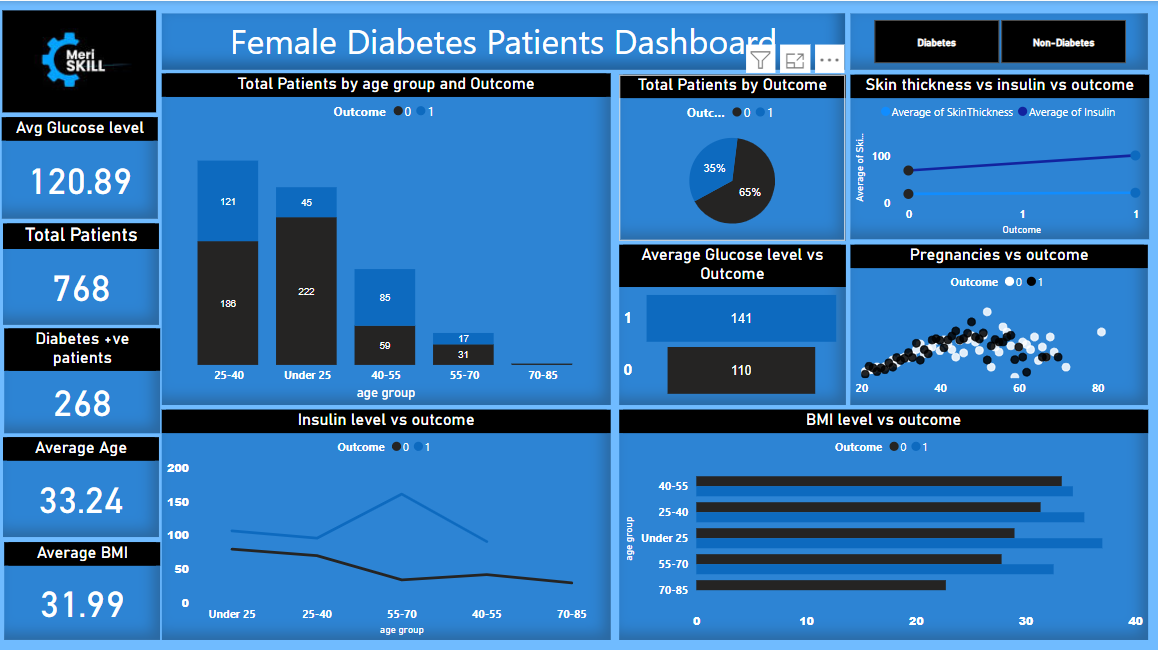

This screenshot's page, from the dashboard's own definition file:
{"tool":"powerbi","page":{"name":"Page 1","canvas":[1280,720],"ordinal":0},"visuals":[{"type":"card","title":"Total Patients","fields":{"Values":["CountNonNull(diabetes datasets.Outcome)"]},"box":[5.5,244.3,171.6,111.2],"z":0},{"type":"card","title":"Diabetes +ve patients","fields":{"Values":["Sum(diabetes datasets.Outcome)"]},"box":[6.9,359.6,171.6,115.3],"z":1000},{"type":"card","title":"Average Age","fields":{"Values":["Avg(diabetes datasets.Age)"]},"box":[6,479,171.6,109.8],"z":2000},{"type":"card","title":"Average BMI","fields":{"Values":["Avg(diabetes datasets.BMI)"]},"box":[6.9,594.3,171.6,107.1],"z":3000},{"type":"image","box":[0,5.5,178.4,122.2],"z":4000},{"type":"textbox","box":[179.8,13.7,750.8,61.8],"z":5000},{"type":"columnChart","fields":{"Category":["diabetes datasets.age group"],"Series":["diabetes datasets.Outcome"],"Y":["diabetes datasets.Total Patients"]},"box":[179.8,79.6,492.7,363.7],"z":6000},{"type":"pieChart","fields":{"Category":["diabetes datasets.Outcome"],"Y":["diabetes datasets.Total Patients"]},"box":[682.1,81,248.4,182.5],"z":7000},{"type":"clusteredBarChart","title":"BMI level vs outcome","fields":{"Category":["diabetes datasets.age group"],"Y":["Avg(diabetes datasets.BMI)"],"Series":["diabetes datasets.Outcome"]},"box":[682.1,448.8,580.6,252.5],"z":8000},{"type":"funnel","title":"Average Glucose level vs Outcome","fields":{"Category":["diabetes datasets.Outcome"],"Y":["Avg(diabetes datasets.Glucose)"]},"box":[682.1,267.6,248.4,175.7],"z":9000},{"type":"lineChart","title":"Insulin level vs outcome","fields":{"Category":["diabetes datasets.age group"],"Series":["diabetes datasets.Outcome"],"Y":["Avg(diabetes datasets.Insulin)"]},"box":[179.8,448.8,492.7,252.5],"z":10000},{"type":"scatterChart","title":"Pregnancies vs outcome","fields":{"Y":["Avg(diabetes datasets.Pregnancies)"],"Series":["diabetes datasets.Outcome"],"X":["diabetes datasets.Age"]},"box":[936.1,267.6,326.7,175.7],"z":11000},{"type":"card","title":"Avg Glucose level","fields":{"Values":["Avg(diabetes datasets.Glucose)"]},"box":[4,127,171.6,111.2],"z":12000},{"type":"lineChart","title":"Skin thickness vs insulin vs outcome","fields":{"Category":["diabetes datasets.Outcome"],"Y":["Avg(diabetes datasets.SkinThickness)","Avg(diabetes datasets.Insulin)"]},"box":[936.1,81,328,181.2],"z":13000},{"type":"slicer","fields":{"Values":["diabetes datasets.outcome1"]},"box":[936.1,13.7,326.7,61.8],"z":14000}]}

Visuals, with their boxes in screenshot pixels (x1, y1, x2, y2), scaled from the page's 1280x720 canvas onto the 1158x650 screenshot:
"Total Patients" card: {"left": 5, "top": 221, "right": 160, "bottom": 321}
"Diabetes +ve patients" card: {"left": 6, "top": 325, "right": 161, "bottom": 429}
"Average Age" card: {"left": 5, "top": 432, "right": 161, "bottom": 532}
"Average BMI" card: {"left": 6, "top": 537, "right": 161, "bottom": 633}
image: {"left": 0, "top": 5, "right": 161, "bottom": 115}
textbox: {"left": 163, "top": 12, "right": 842, "bottom": 68}
columnChart - diabetes datasets.age group x diabetes datasets.Outcome: {"left": 163, "top": 72, "right": 608, "bottom": 400}
pieChart - diabetes datasets.Outcome x diabetes datasets.Total Patients: {"left": 617, "top": 73, "right": 842, "bottom": 238}
"BMI level vs outcome" clusteredBarChart: {"left": 617, "top": 405, "right": 1142, "bottom": 633}
"Average Glucose level vs Outcome" funnel: {"left": 617, "top": 242, "right": 842, "bottom": 400}
"Insulin level vs outcome" lineChart: {"left": 163, "top": 405, "right": 608, "bottom": 633}
"Pregnancies vs outcome" scatterChart: {"left": 847, "top": 242, "right": 1142, "bottom": 400}
"Avg Glucose level" card: {"left": 4, "top": 115, "right": 159, "bottom": 215}
"Skin thickness vs insulin vs outcome" lineChart: {"left": 847, "top": 73, "right": 1144, "bottom": 237}
slicer - diabetes datasets.outcome1: {"left": 847, "top": 12, "right": 1142, "bottom": 68}
